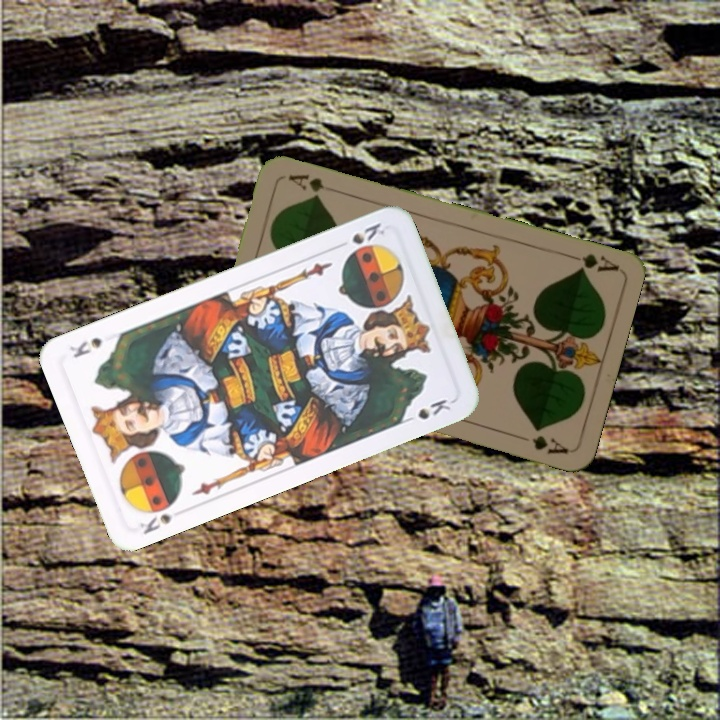GA: (562, 249, 621, 275)
SK: (348, 218, 388, 247), (136, 509, 174, 538)
